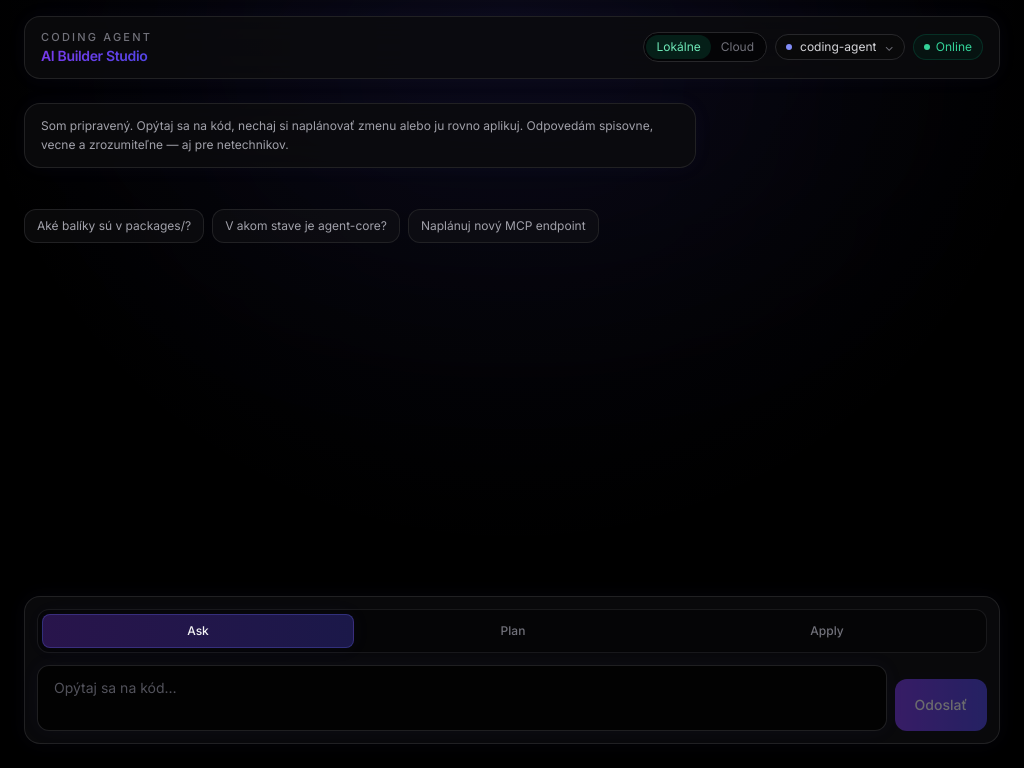
Test: ChatApp › switches to plan mode
The width and height of the screenshot is (1024, 768).
Expected: the text "Som pripravený" is shown, [41,118,656,152]
Step 1. Click the button "Plan" → (513, 631), box [358,615,668,647]
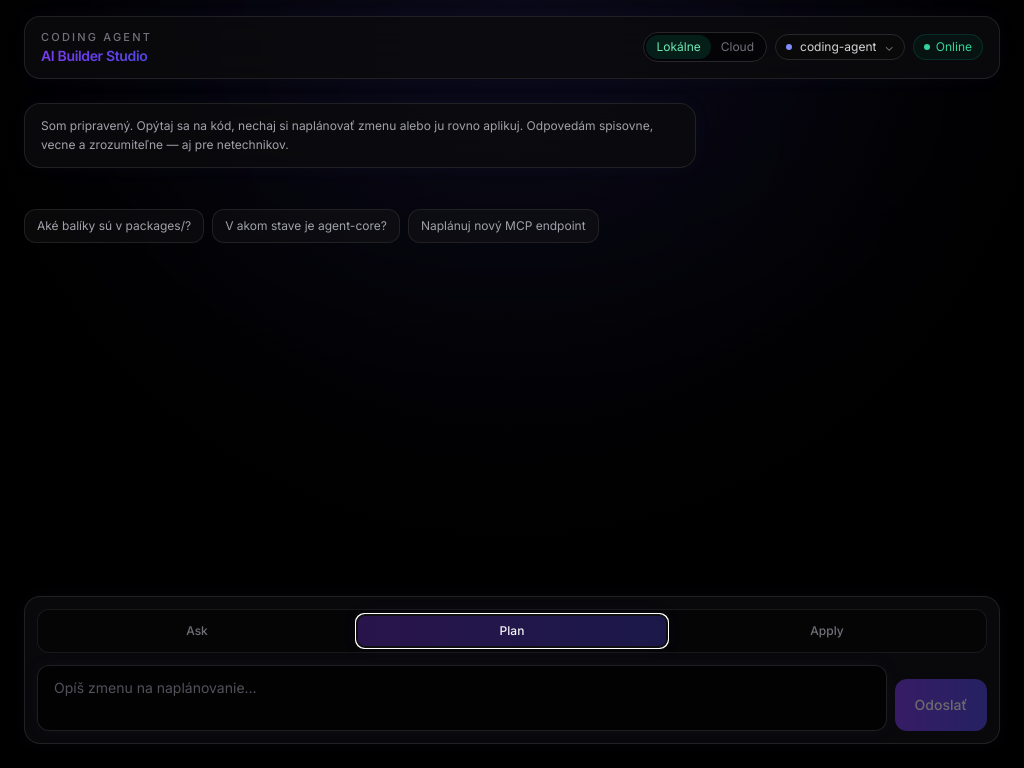
Now the text box with placeholder "Opíš zmenu na naplánovanie…" is shown, box [37,665,887,731]
